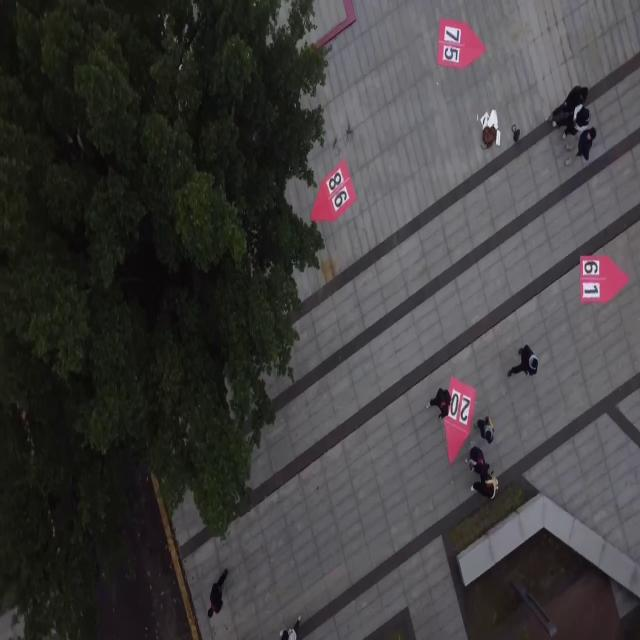-sign-: (310, 158, 357, 223), (442, 376, 476, 464), (436, 18, 486, 72), (580, 254, 630, 306)
